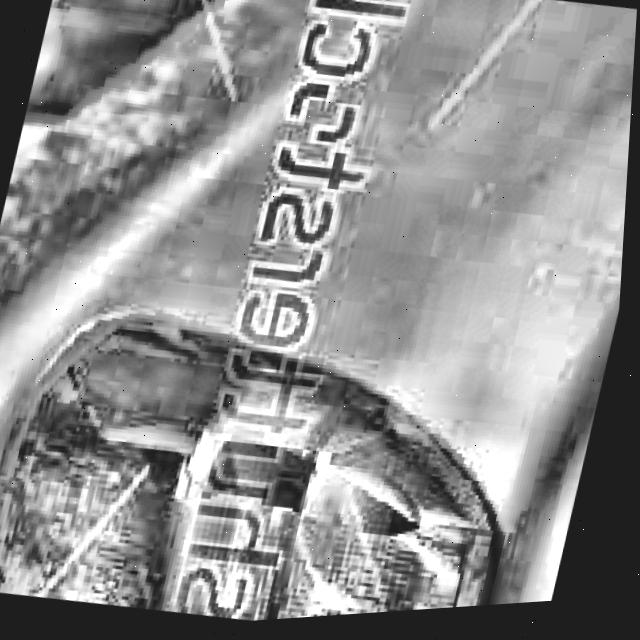tail_lamp: (0, 336, 241, 625), (246, 405, 493, 621)
